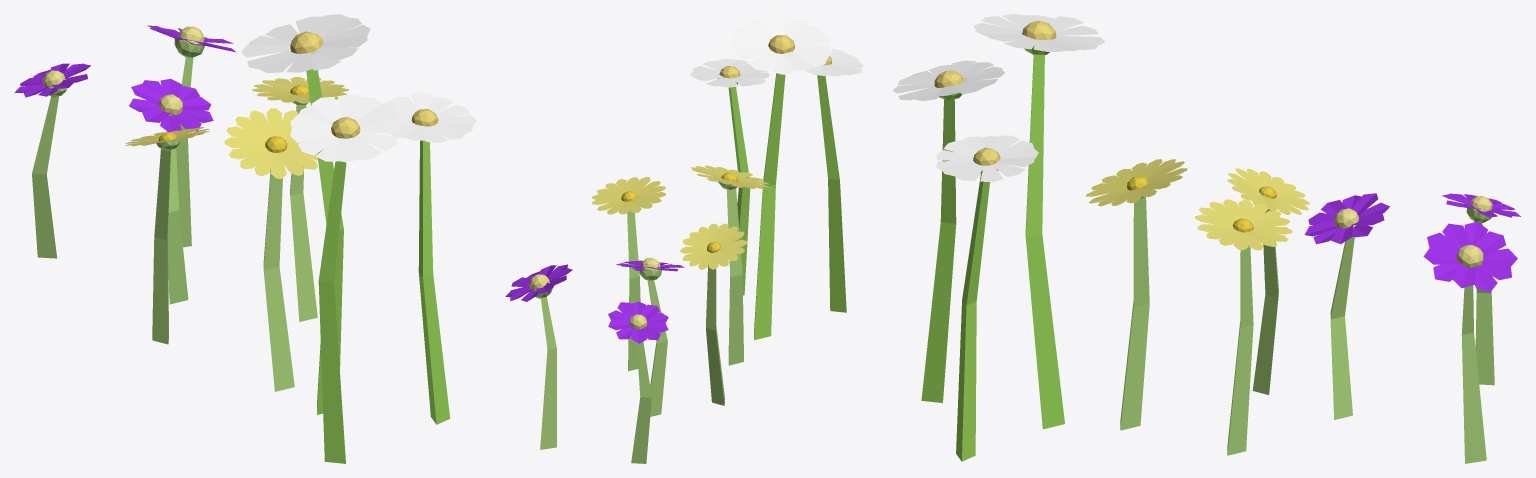
The model's file is flowerGrass.glb.
3 renders of one model, left to right at view 1: azimuth 30°, elevation 25°; view 2: azimuth 150°, elevation 25°; view 3: azimuth 270°, elevation 25°, orthographic. The views are drawn at different scales.
Visible parts, largest first — view 1: Cylinder, Cylinder.002, Cylinder.003; view 2: Cylinder, Cylinder.002, Cylinder.003; view 3: Cylinder, Cylinder.002, Cylinder.003.
Boxes of the visible parts, x1,y1,x2,y2 form: Cylinder: [241, 14, 476, 463]; Cylinder.002: [125, 77, 349, 391]; Cylinder.003: [14, 25, 235, 304]; Cylinder: [690, 14, 863, 340]; Cylinder.002: [591, 165, 769, 405]; Cylinder.003: [505, 257, 684, 463]; Cylinder: [892, 14, 1105, 461]; Cylinder.002: [1086, 159, 1309, 455]; Cylinder.003: [1304, 193, 1520, 463].
Bounding box in the file's own units: 0.1611 × 0.2942 × 0.423.
